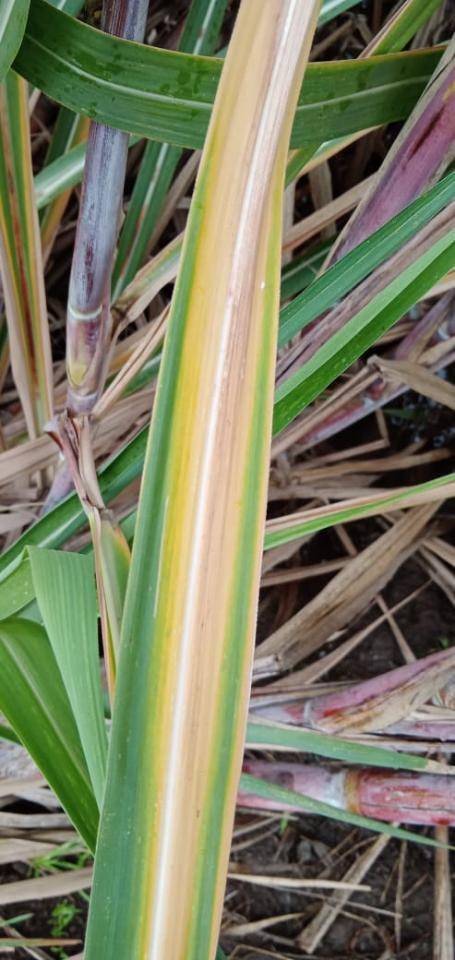RedRot: (0, 81, 41, 399)
Yellow: (158, 0, 321, 959), (139, 0, 292, 958), (18, 76, 48, 422), (0, 194, 33, 399), (41, 187, 72, 259), (114, 524, 131, 566), (108, 629, 115, 701), (78, 117, 90, 144)
